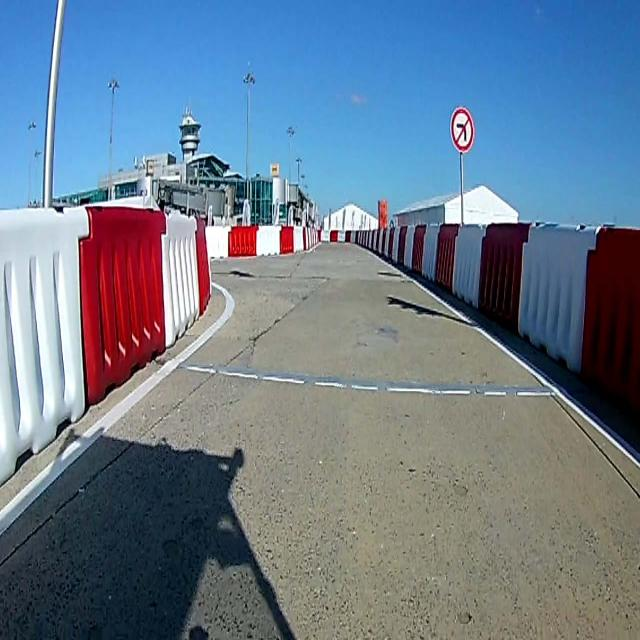soladonulmez: (449, 105, 474, 152)
